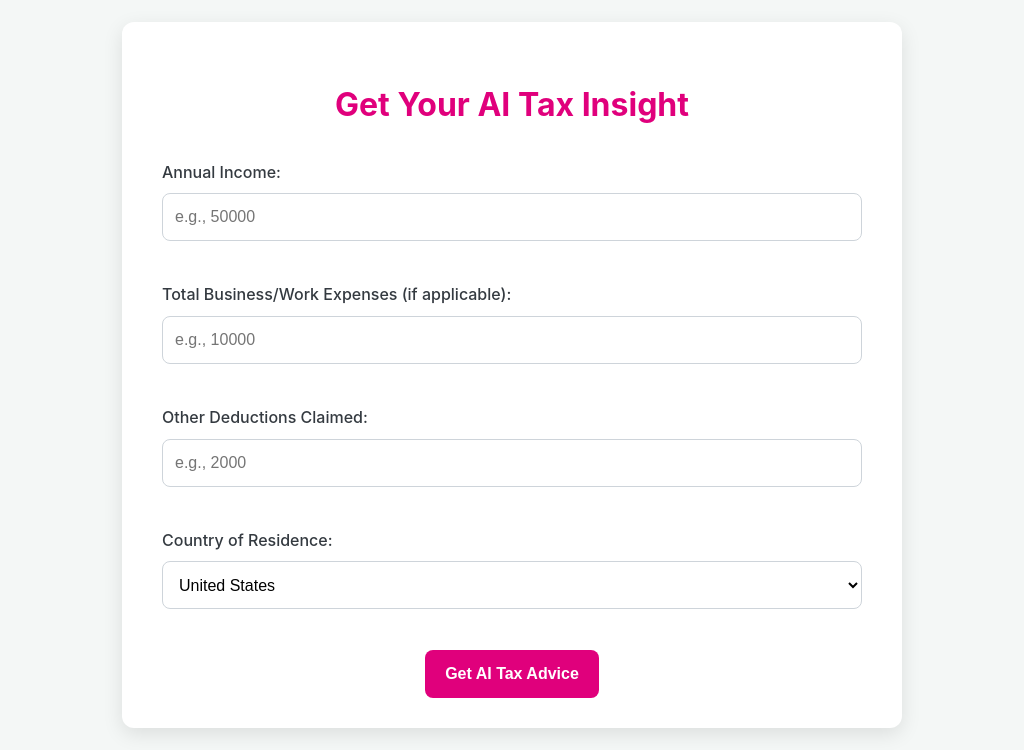
TaxForm Component › shows error messages for missing or invalid fields on submit
This screenshot has width=1024, height=750.
Select "Select your country" in the dropdown labelled "Country of Residence:" at (512, 585), box [162,561,862,609]
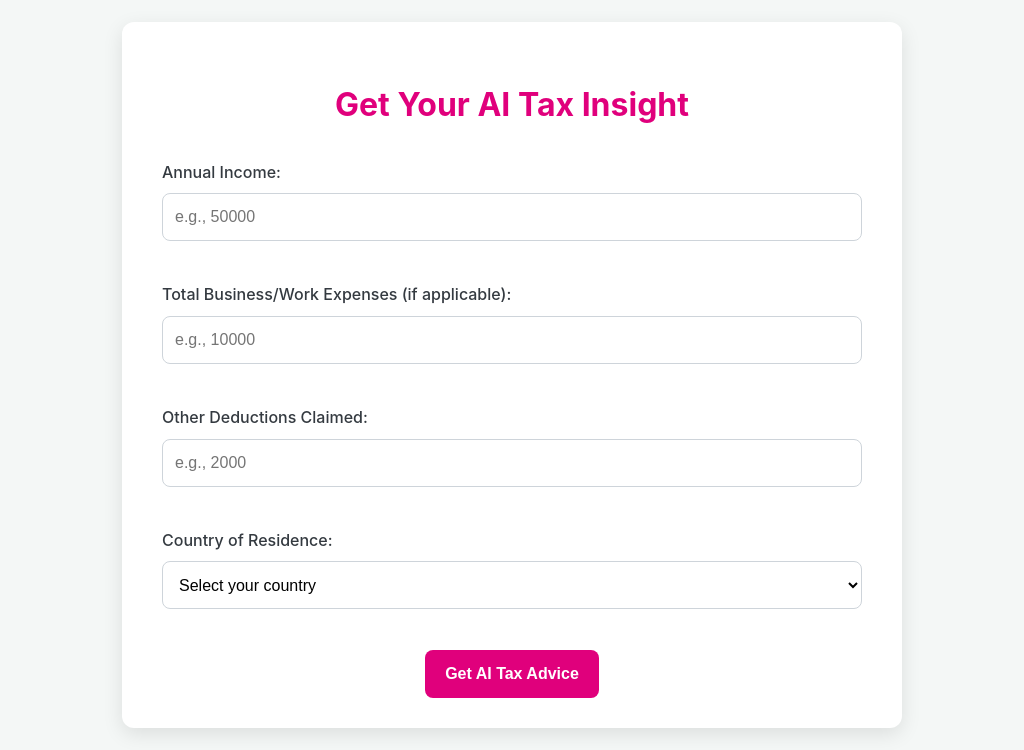
Click the button "Get AI Tax Advice" at (512, 674), box [425,650,599,698]
(page scrolled)
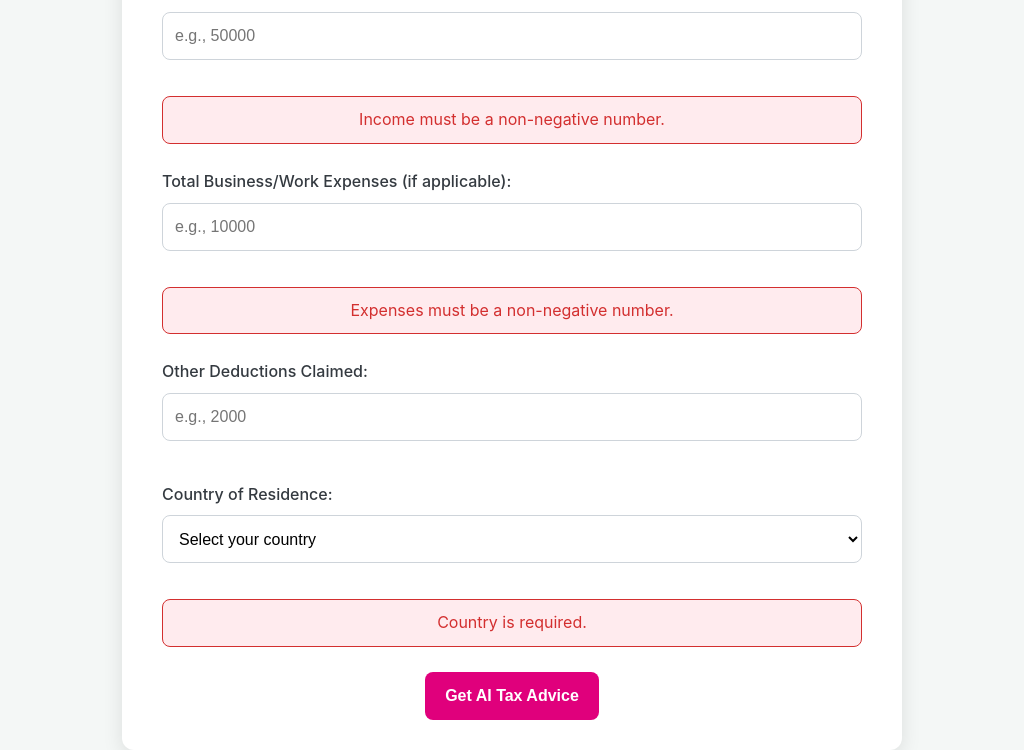
Now the text "Income must be a non-negative number." is shown, box [162,96,862,144]
Now the text "Expenses must be a non-negative number." is shown, box [162,286,862,334]
Now the text "Country is required." is shown, box [162,599,862,647]
